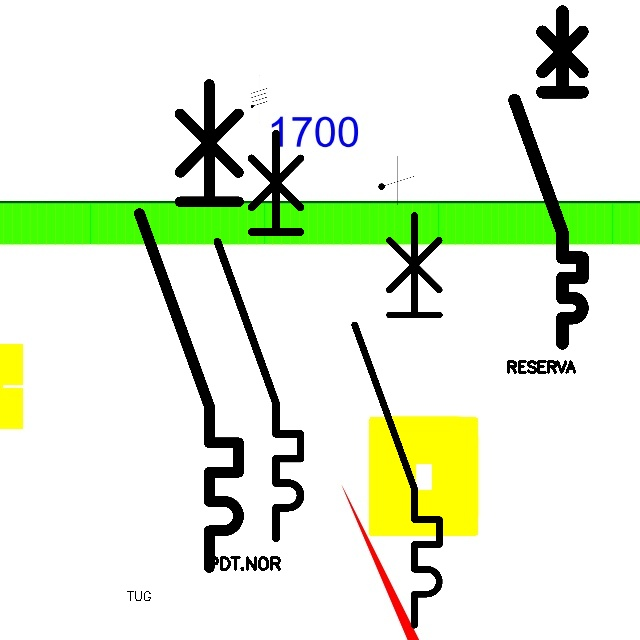interruptor_termomagnetico: (127, 72, 251, 580), (344, 204, 450, 636), (207, 123, 311, 549), (506, 3, 591, 352)
